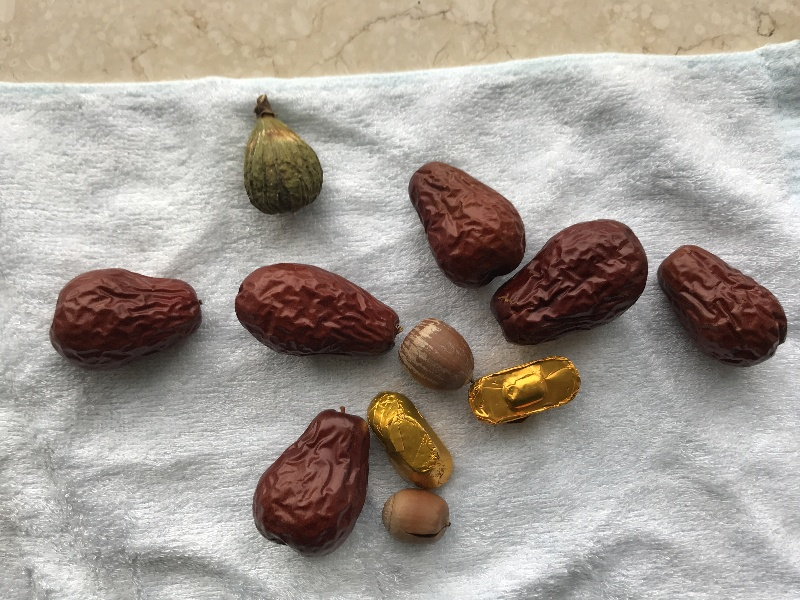date: (491, 218, 649, 346), (251, 407, 372, 559), (49, 267, 210, 373), (657, 244, 790, 369), (233, 264, 403, 358), (407, 161, 529, 291)
fig: (245, 92, 326, 216)
hazelnut: (400, 320, 476, 394), (379, 487, 459, 545)
